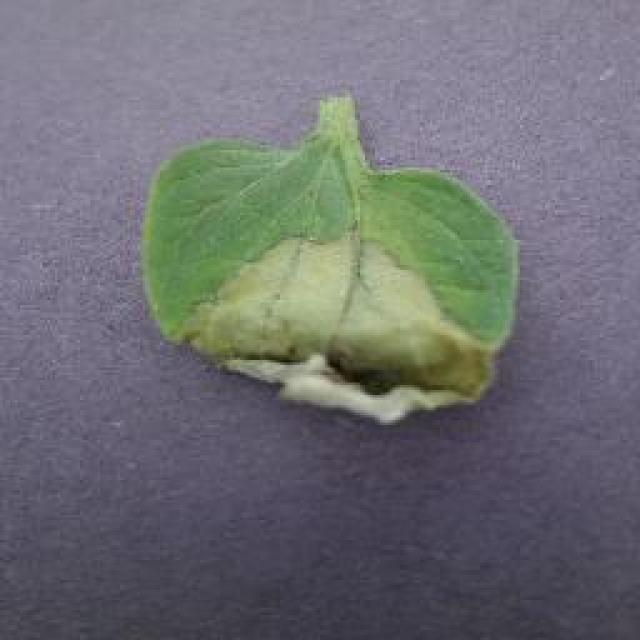Tomato Late Blight: (222, 232, 493, 438)
